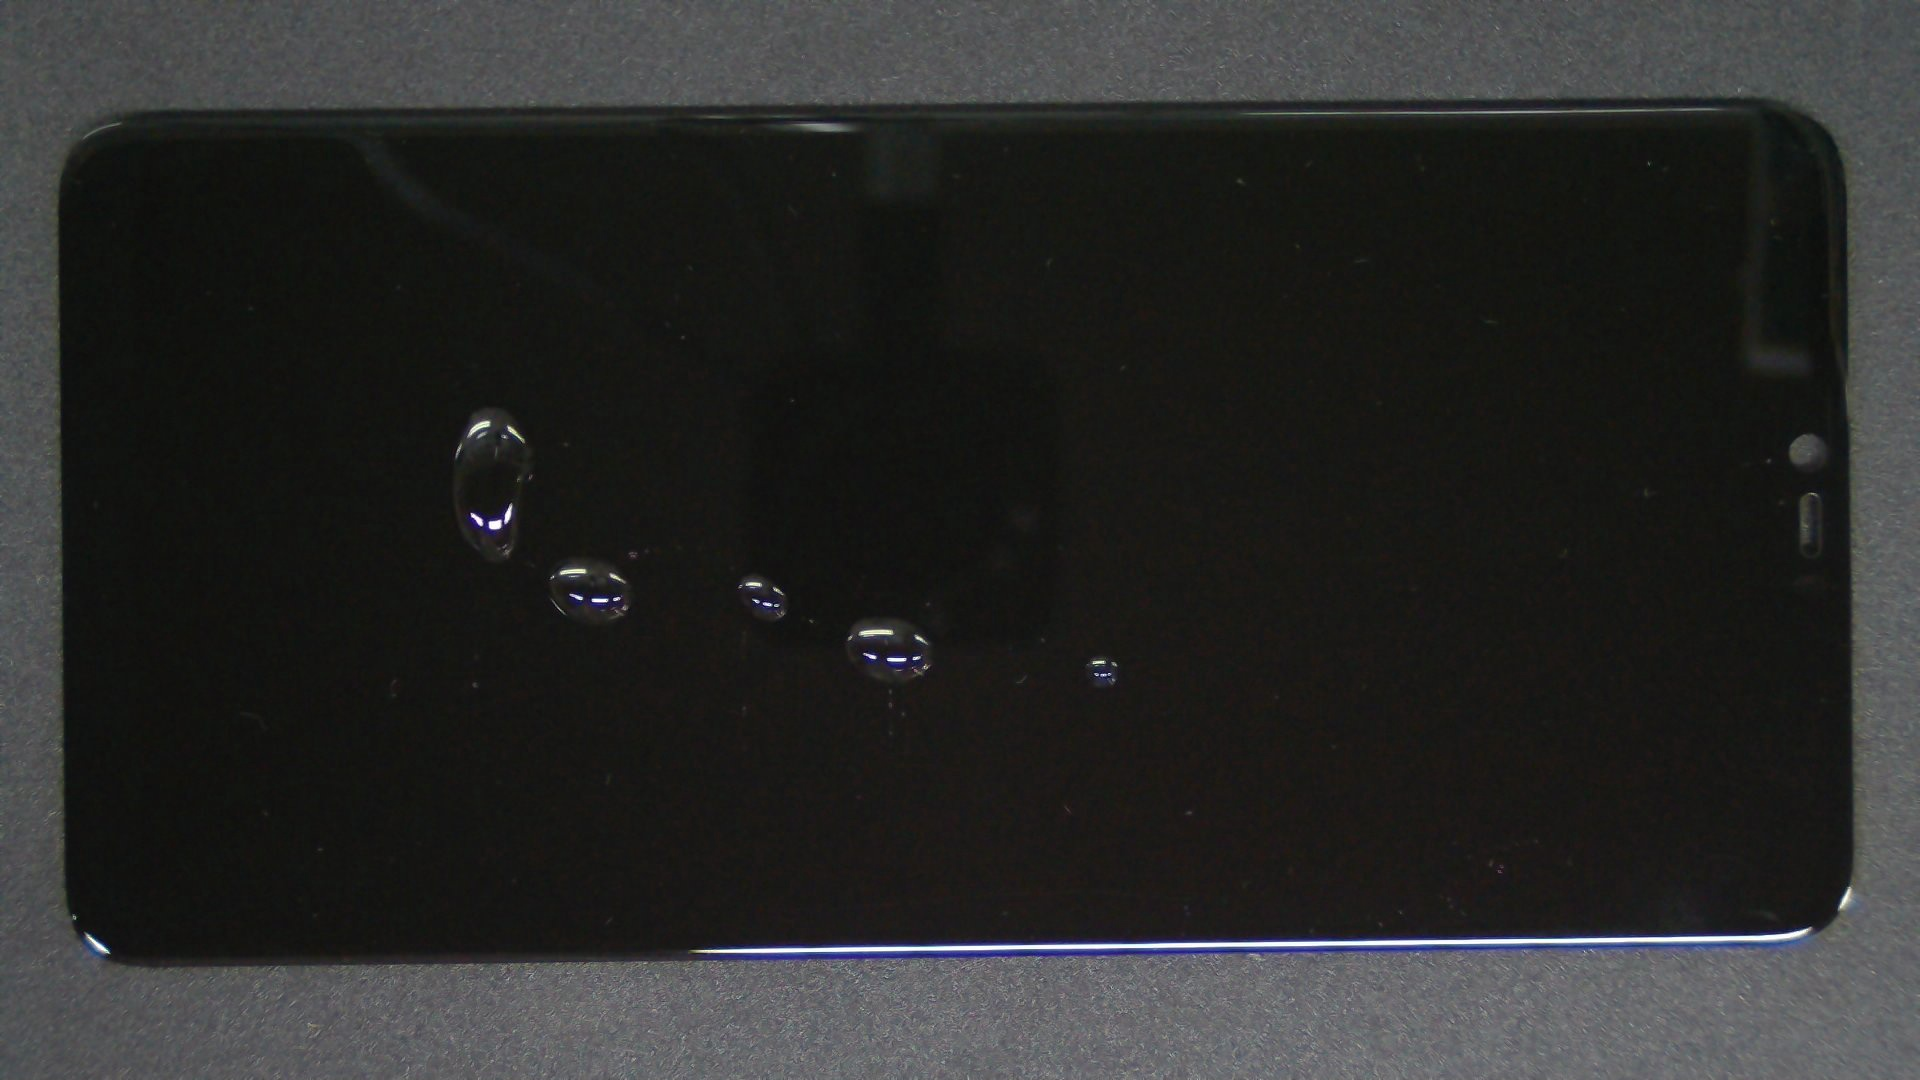oil: (550, 327, 1650, 982), (438, 309, 1311, 926), (377, 286, 1129, 858), (295, 277, 884, 835), (244, 203, 731, 611)
